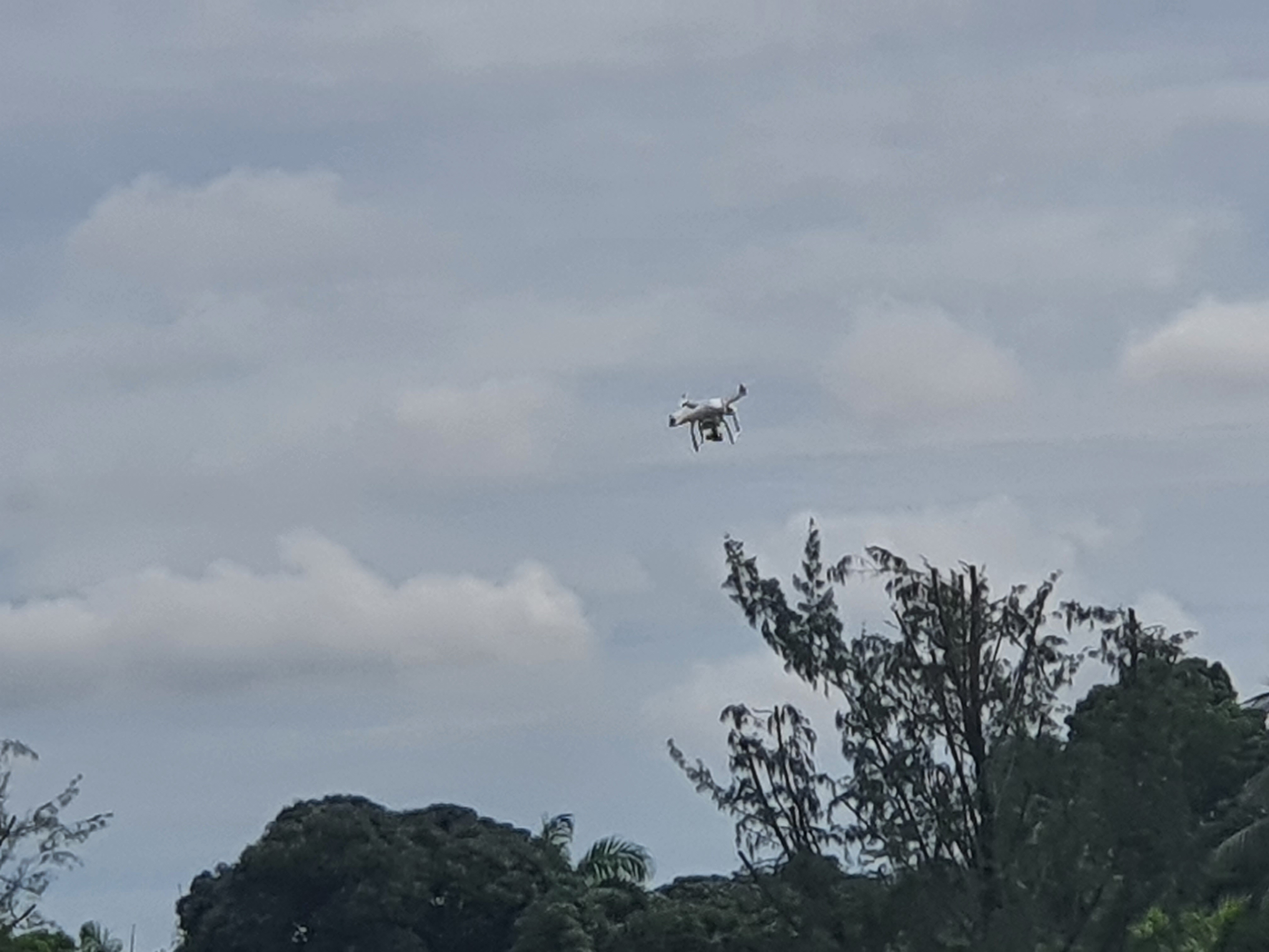drone_other: (668, 378, 754, 455)
